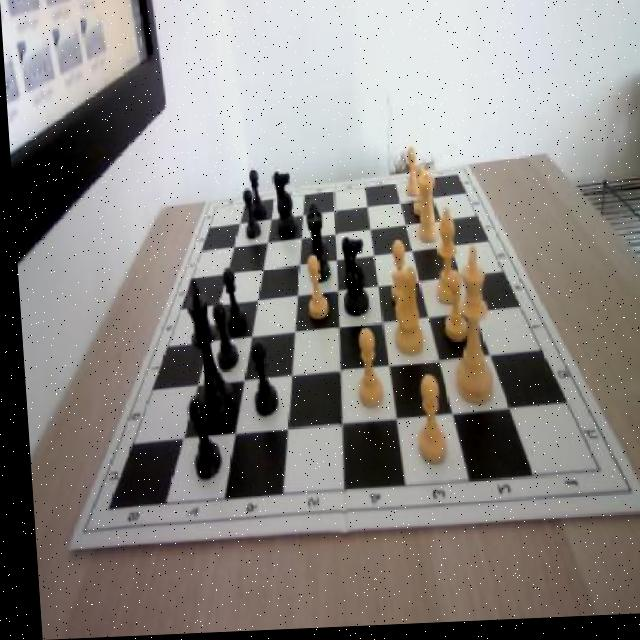black-bishop: (179, 278, 230, 432)
black-king: (335, 239, 365, 322), (269, 173, 296, 240)
black-knight: (182, 393, 217, 485), (244, 344, 272, 420), (216, 270, 243, 337), (208, 305, 233, 376), (245, 166, 263, 222), (237, 192, 256, 245)
black-queen: (303, 211, 326, 283)
black-rook: (427, 211, 460, 309)
white-bishop: (442, 250, 492, 413)
white-king: (382, 270, 421, 363)
white-knight: (406, 379, 445, 475), (349, 332, 379, 416), (435, 274, 465, 348), (300, 259, 327, 326), (383, 240, 406, 309), (409, 168, 429, 220), (400, 146, 417, 201)
white-queen: (409, 180, 438, 247)
